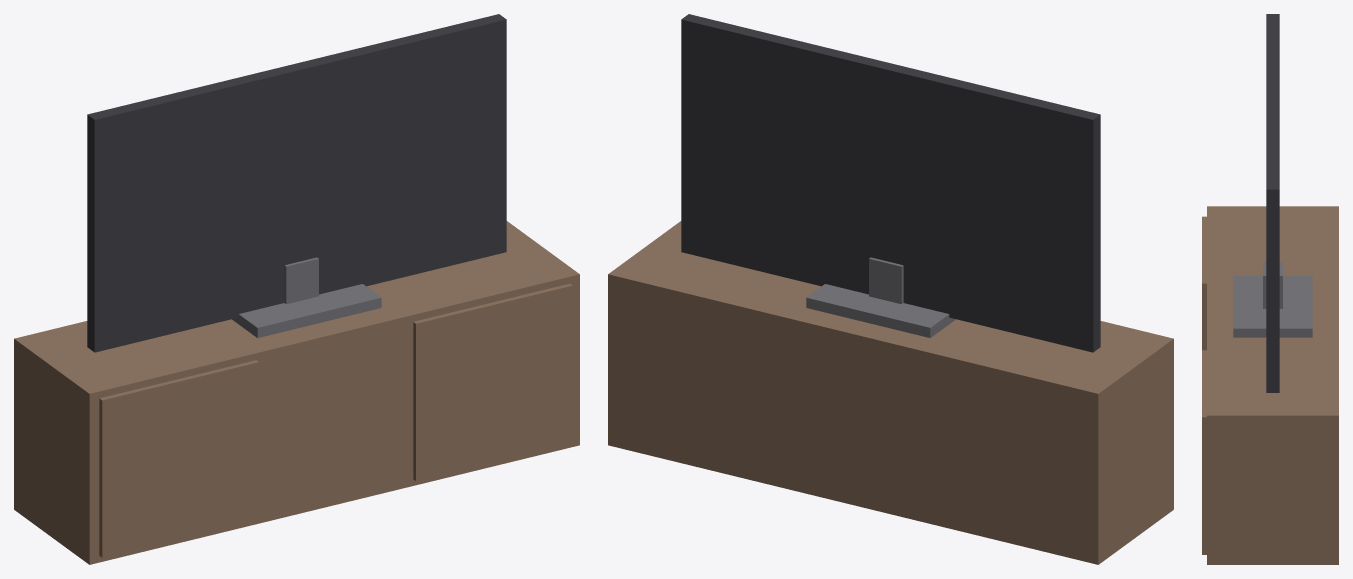
The picture shows the model from 3 angles, left to right: view 1: azimuth 30°, elevation 25°; view 2: azimuth 150°, elevation 25°; view 3: azimuth 270°, elevation 25°; orthographic projection. The views are drawn at different scales.
Parts seen in each view (by area): view 1: FurnitureRoot; view 2: FurnitureRoot; view 3: FurnitureRoot.
Part boxes in pixels (box(x1,y1,x2,y2)): FurnitureRoot: box(14, 14, 579, 564); FurnitureRoot: box(608, 14, 1173, 564); FurnitureRoot: box(1202, 14, 1338, 564).
Size of the model in its own units: 150 by 120 by 41.5.
